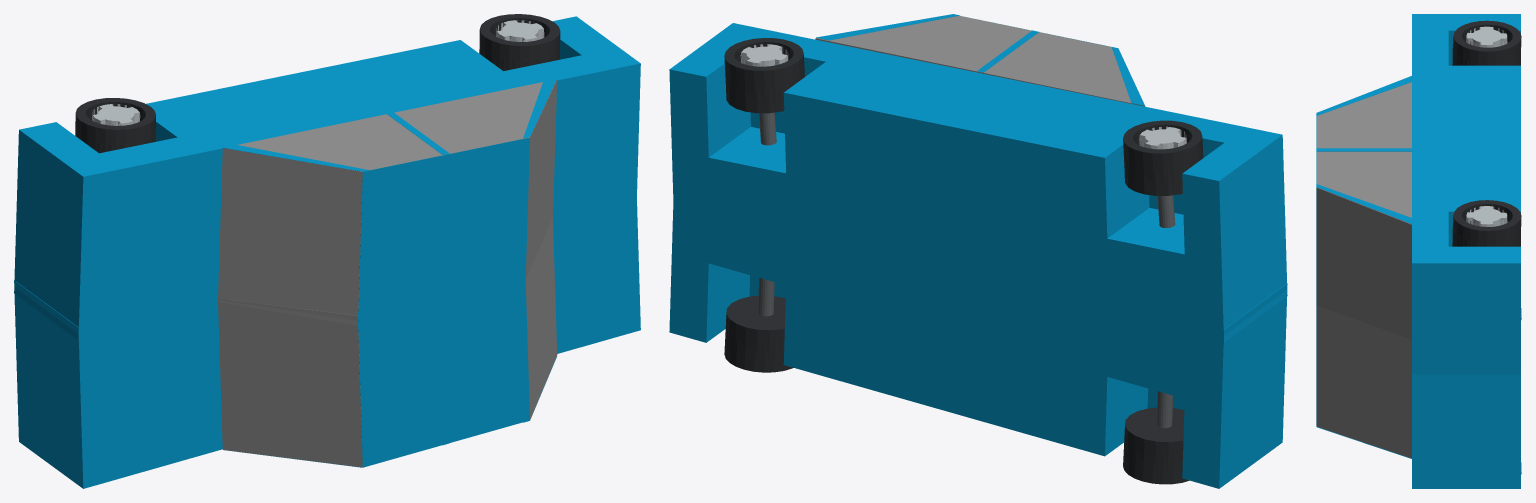
File: tinker.obj
3 renders of one model, left to right at view 1: azimuth 30°, elevation 25°; view 2: azimuth 150°, elevation 25°; view 3: azimuth 270°, elevation 25°, orthographic. The views are drawn at different scales.
Parts seen in each view (by area): view 1: group_0_40919, group_0_9868950, group_0_2829873, group_0_12568524; view 2: group_0_40919, group_0_2829873, group_0_9868950, group_0_6383466, group_0_12568524; view 3: group_0_40919, group_0_9868950, group_0_2829873, group_0_12568524.
Boxes of the visible parts, x1,y1,x2,y2 form: group_0_40919: (14, 16, 640, 488); group_0_9868950: (218, 79, 557, 467); group_0_2829873: (75, 14, 560, 153); group_0_12568524: (92, 20, 544, 125); group_0_40919: (669, 14, 1287, 488); group_0_2829873: (724, 38, 1203, 484); group_0_9868950: (815, 15, 1145, 106); group_0_6383466: (758, 112, 1175, 428); group_0_12568524: (740, 44, 1186, 149); group_0_40919: (1316, 14, 1520, 488); group_0_9868950: (1316, 82, 1411, 458); group_0_2829873: (1452, 20, 1521, 474); group_0_12568524: (1466, 26, 1507, 226).
Size of the model in its own units: 40.33 by 23.14 by 15.05.
